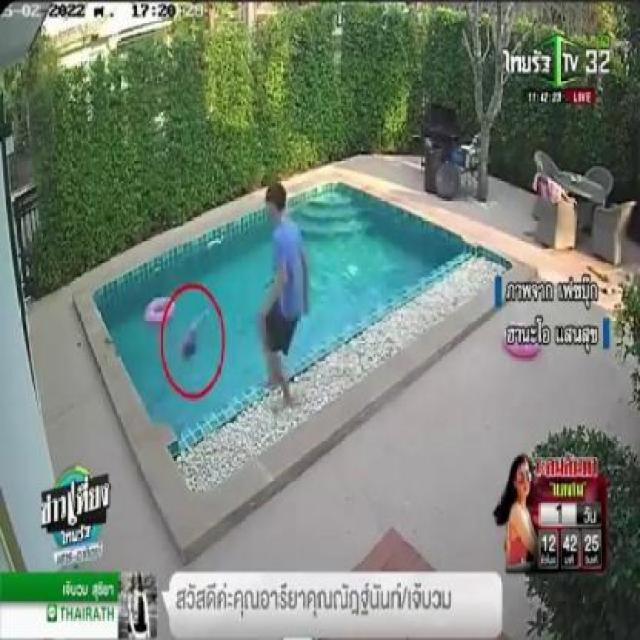drowning: (176, 313, 207, 365)
